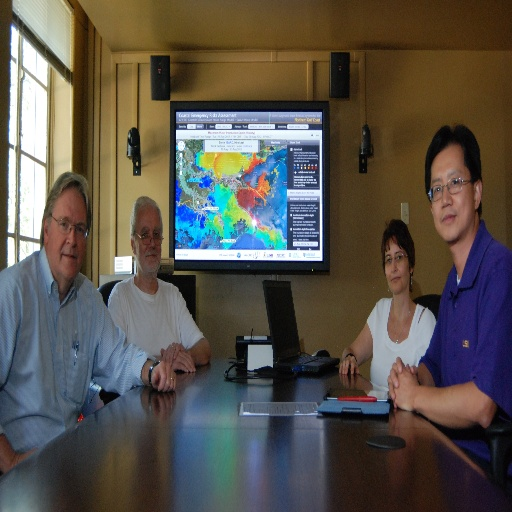hand: (387, 352, 418, 411), (393, 358, 423, 414), (147, 362, 176, 393), (159, 340, 186, 365), (171, 350, 197, 374), (336, 353, 361, 377), (16, 445, 42, 466)
